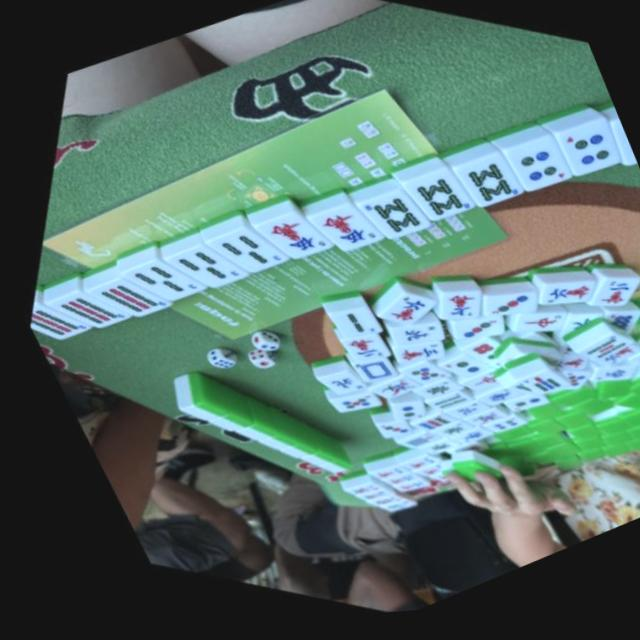sb3: (100, 233, 201, 326), (190, 205, 289, 299), (145, 222, 244, 315)
sb8: (358, 128, 491, 260), (411, 113, 543, 245), (316, 152, 444, 277)
sb9: (63, 244, 174, 349), (25, 260, 130, 359), (17, 285, 91, 365)
sc5: (290, 186, 382, 274), (242, 196, 328, 278)
sd4: (458, 98, 591, 231), (510, 84, 638, 216), (561, 92, 639, 204)
